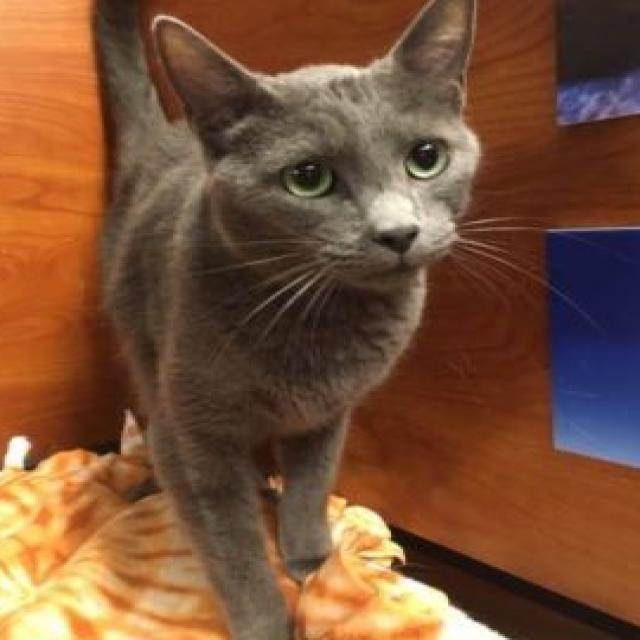Russian Blue: (92, 0, 484, 640)
